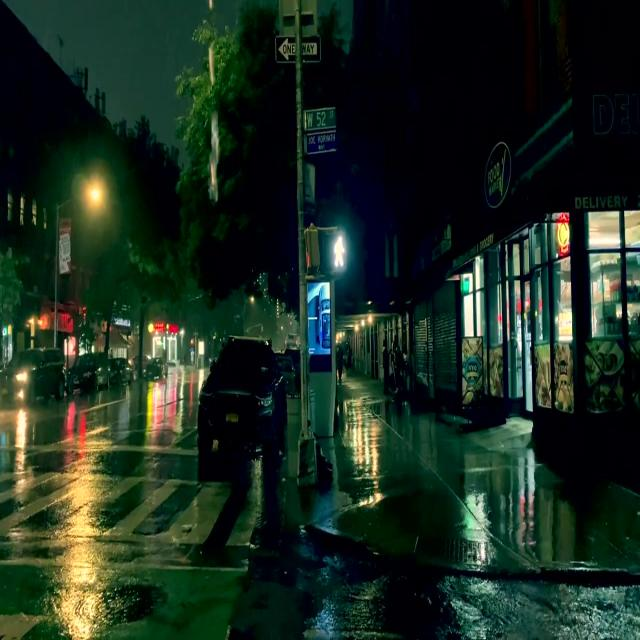Car: (199, 332, 280, 474), (5, 349, 64, 401), (70, 351, 109, 396)
